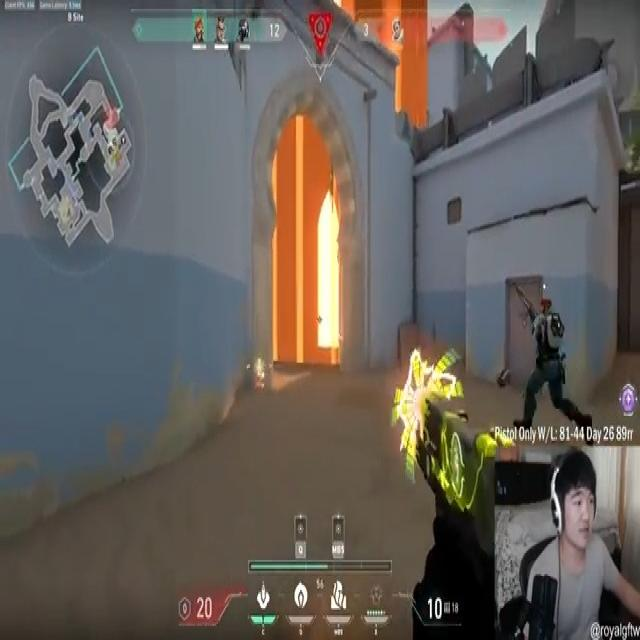ally: (510, 268, 591, 438)
